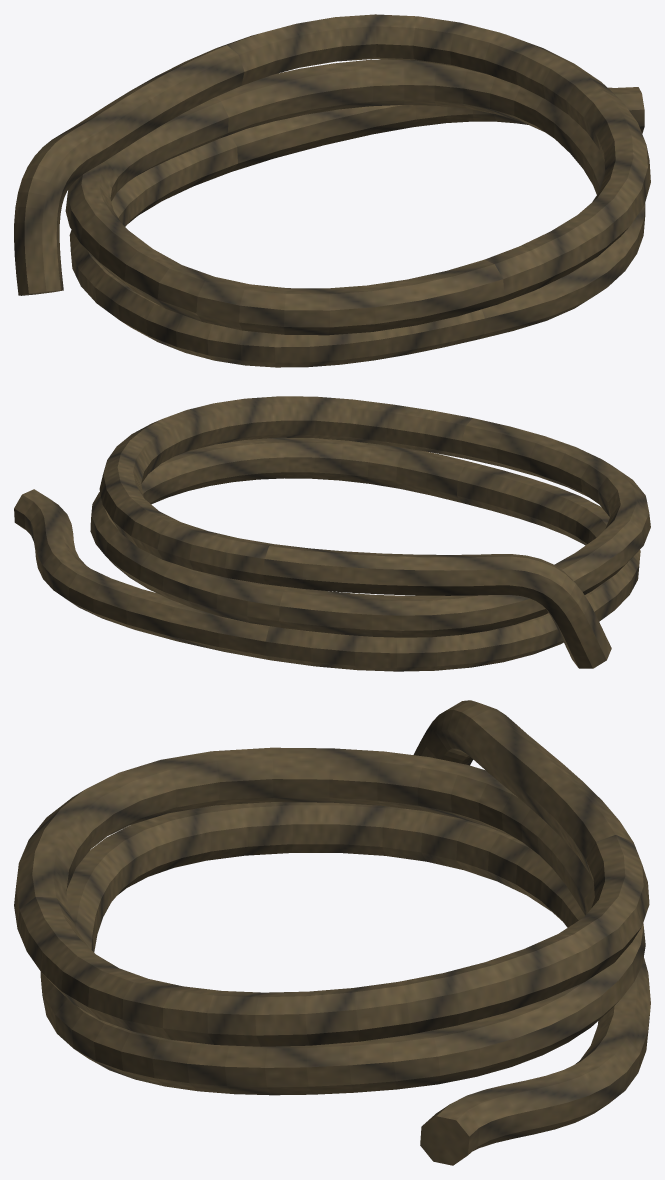
Rendered from rope.fbx.
3 views of the same model, one above another, from view 1: azimuth 30°, elevation 25°; view 2: azimuth 150°, elevation 25°; view 3: azimuth 270°, elevation 25° (orthographic). The views are drawn at different scales.
Parts seen in each view (by area): view 1: BezierCurve.001; view 2: BezierCurve.001; view 3: BezierCurve.001.
Part boxes in pixels (left/top/right/bottom): BezierCurve.001: left=14, top=14, right=650, bottom=367; BezierCurve.001: left=14, top=396, right=650, bottom=671; BezierCurve.001: left=14, top=700, right=650, bottom=1165.
Size of the model in its own units: 75.39 by 14.55 by 55.47.
